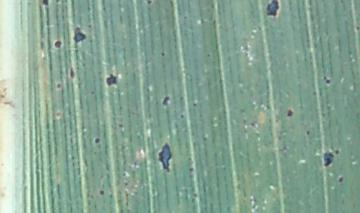tarspot: (157, 141, 173, 173), (265, 1, 281, 19), (71, 26, 87, 43), (322, 150, 335, 168), (103, 72, 118, 87), (67, 65, 76, 79), (161, 95, 171, 106), (52, 39, 62, 49), (285, 107, 294, 118), (93, 136, 102, 146), (178, 111, 186, 120), (187, 166, 196, 174), (98, 188, 105, 197), (337, 175, 344, 184), (249, 120, 256, 129), (40, 1, 50, 7), (324, 78, 331, 86), (182, 14, 189, 22), (117, 122, 124, 130), (89, 90, 96, 97), (191, 101, 198, 108), (333, 148, 340, 155), (122, 180, 129, 187), (191, 191, 197, 199), (312, 89, 317, 98), (159, 51, 165, 58), (55, 82, 61, 89), (54, 111, 61, 117), (304, 129, 310, 136), (205, 52, 211, 59), (355, 24, 360, 32), (121, 170, 126, 178), (86, 23, 92, 29), (145, 1, 152, 5), (54, 1, 60, 4)
